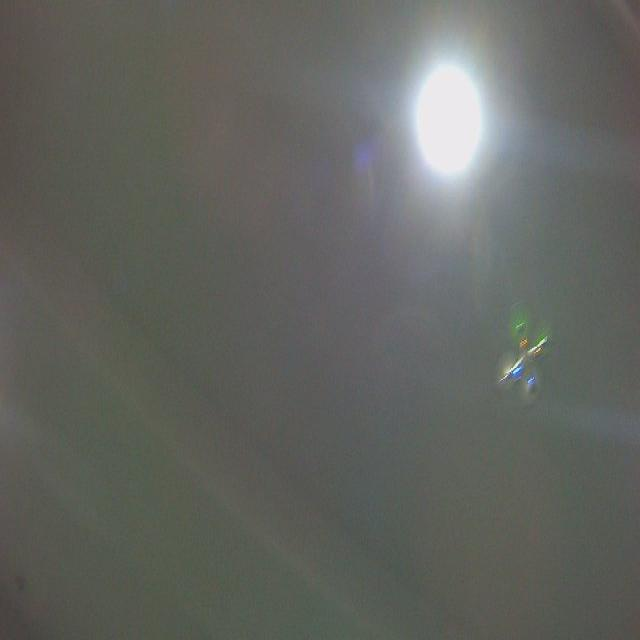drone: (488, 295, 559, 415)
